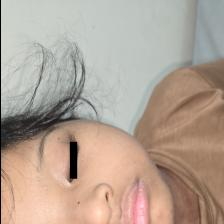DA: (55, 137, 68, 180), (76, 148, 90, 184)
